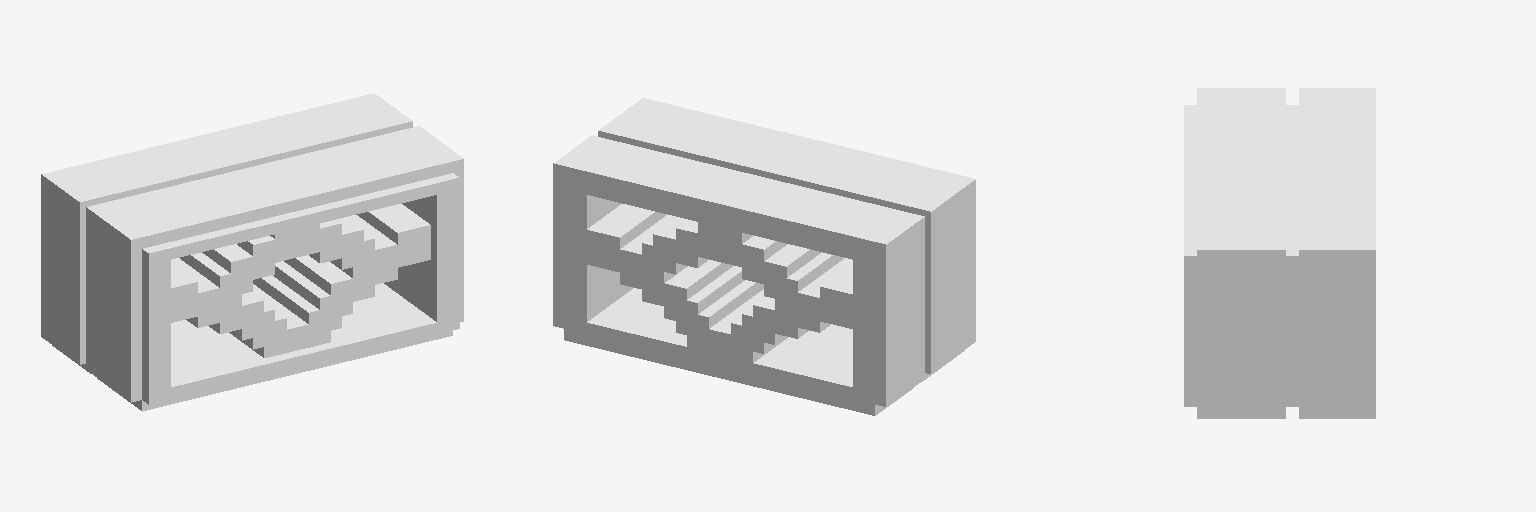
File: block_typeA2.obj
3 renders of one model, left to right at view 1: azimuth 30°, elevation 25°; view 2: azimuth 150°, elevation 25°; view 3: azimuth 270°, elevation 25°, orthographic.
Visible parts, largest first — view 1: block_typeA2; view 2: block_typeA2; view 3: block_typeA2.
Boxes of the visible parts, x1,y1,x2,y2 form: block_typeA2: [41, 93, 463, 411]; block_typeA2: [553, 98, 975, 415]; block_typeA2: [1184, 88, 1375, 418].
Bounding box in the file's own units: 0.2 × 0.1 × 0.1.